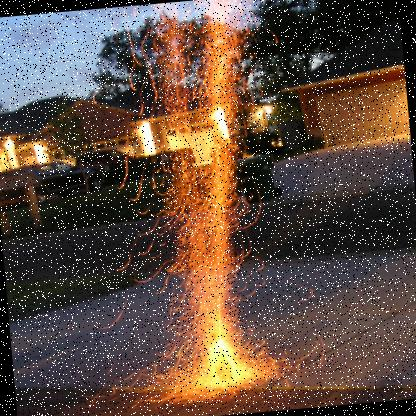Car: (0, 157, 109, 215)
